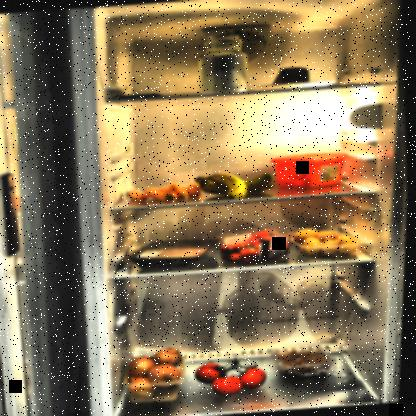banana: (194, 168, 278, 204)
butter: (271, 148, 353, 191)
carrot: (128, 180, 203, 208)
cheese: (272, 65, 311, 86)
chicken: (136, 240, 214, 270)
chocolate: (107, 90, 167, 102)
onion: (122, 346, 191, 406)
potato: (293, 226, 367, 264)
shrimp: (278, 345, 338, 379)
strawberries: (220, 229, 296, 266)
tomato: (196, 356, 273, 400)
